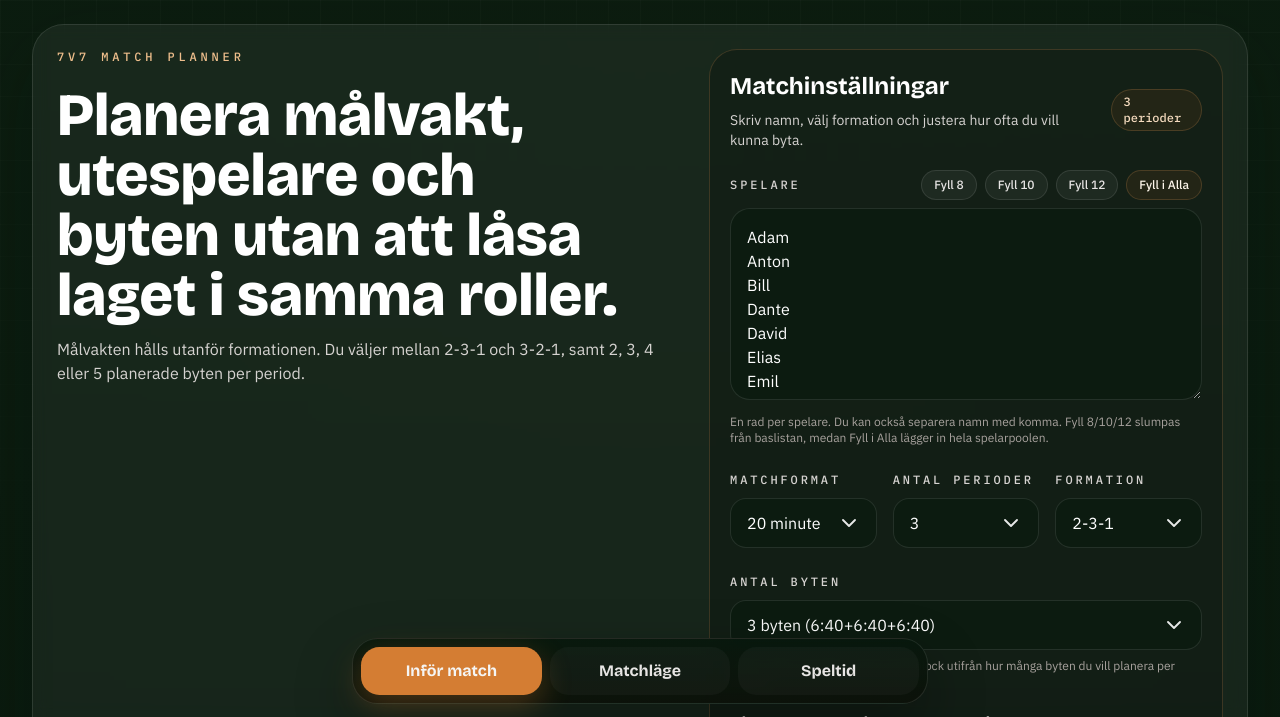
Test: App › normalizes antal byten when matchformat changes to a different option set
Select "15 minuter" in the dropdown labelled "Matchformat" at (803, 523), box left=730, top=498, right=877, bottom=548
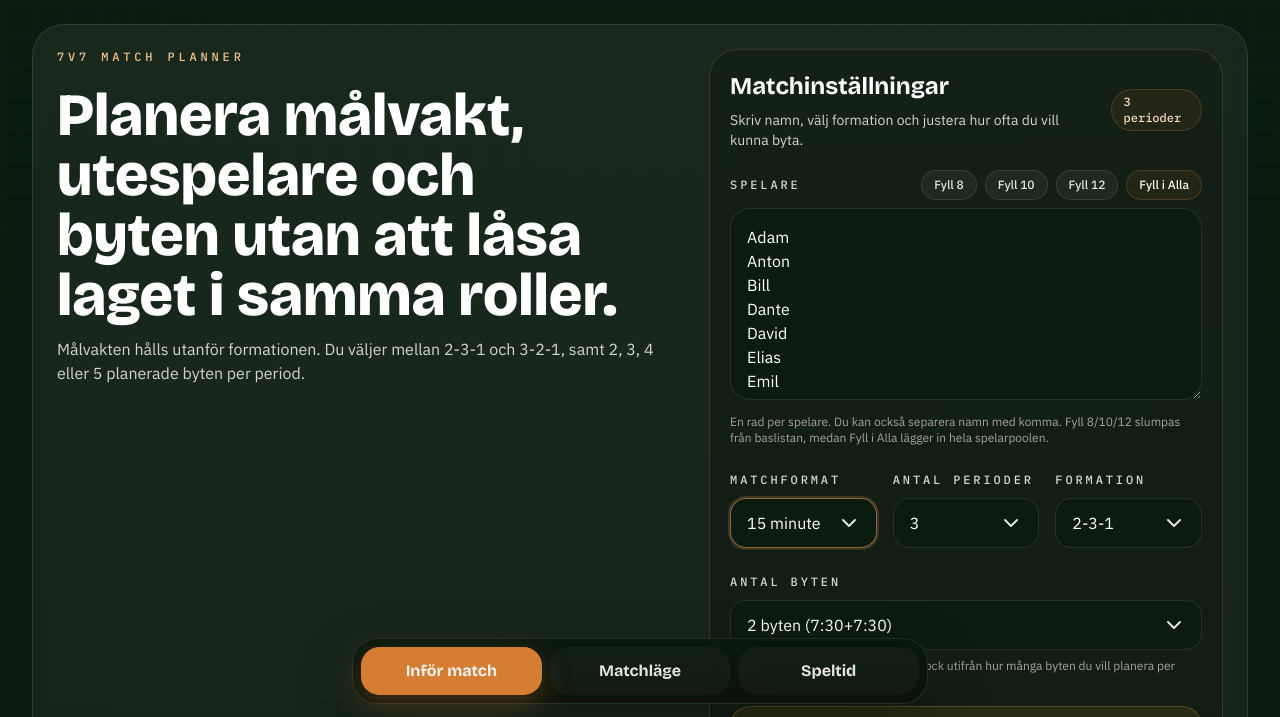
Now the dropdown labelled "Antal byten" shows "2 byten (7:30+7:30)", box left=730, top=600, right=1202, bottom=650
